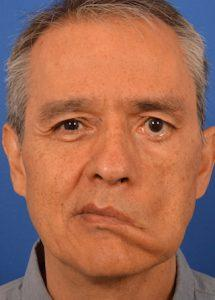strokeEyeMid: (29, 89, 187, 149)
strokeMouthMid: (61, 200, 152, 234)
